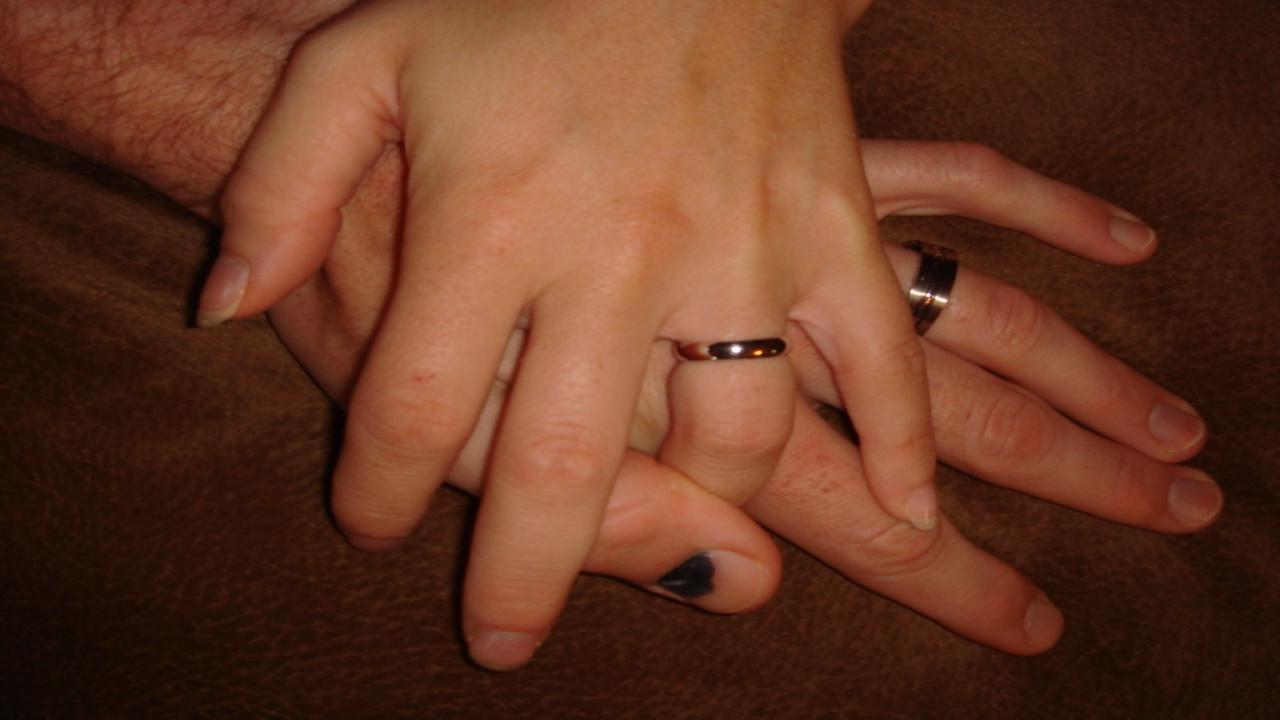ring: (898, 238, 964, 342), (676, 334, 786, 364)
